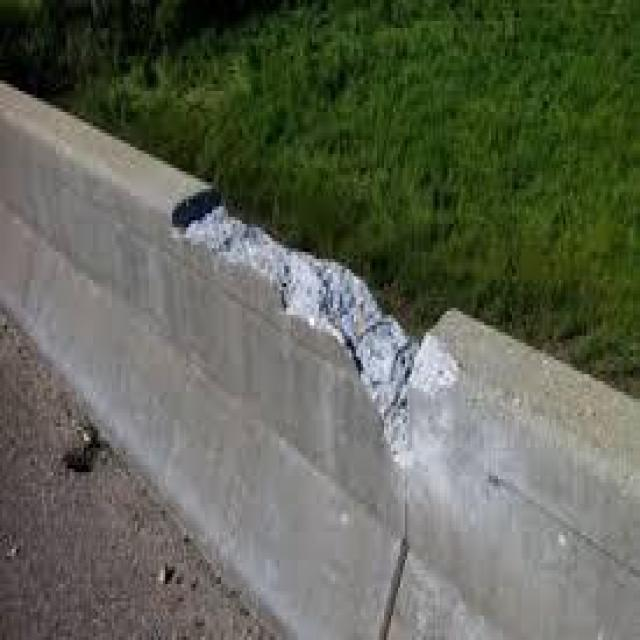curb: (67, 131, 340, 640), (323, 302, 640, 640), (2, 90, 93, 359)
